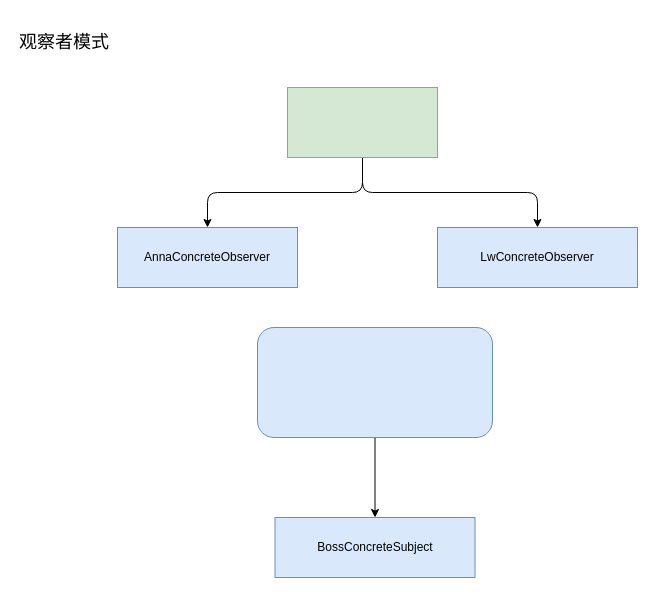
Image size: 655x595. Some labels were removed from this diagram. The centre of each missing label's shape, as x and y in pixels:
Observer void update(): pixel 362 122
Subject addObserver() removeObserver() notifyAllObserver(): pixel 374 382
